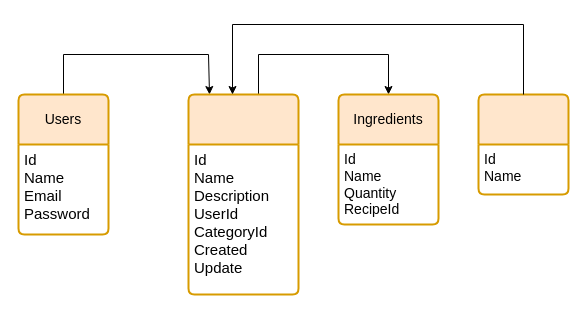
This 586x313 diagram has some shape labels left out. The box of each missing label's shape, as (x1, y1, x2, y2) in pixels:
Categories: (477, 93, 569, 195)
Recipes: (187, 93, 299, 295)
